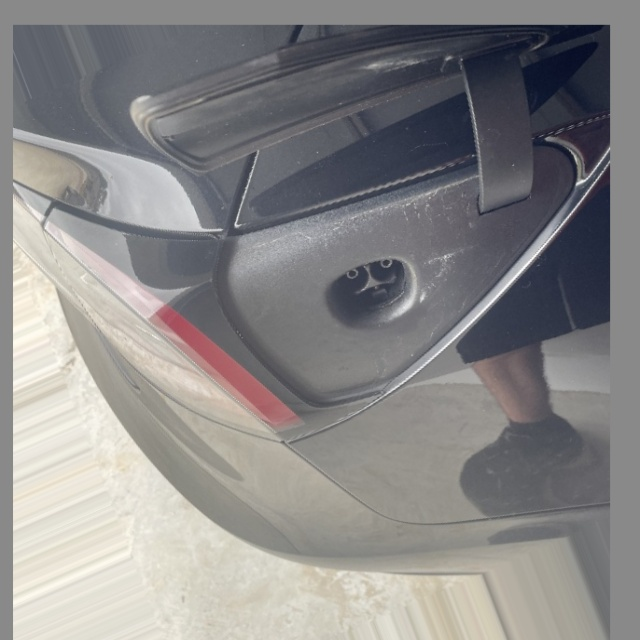port: (318, 245, 428, 343)
